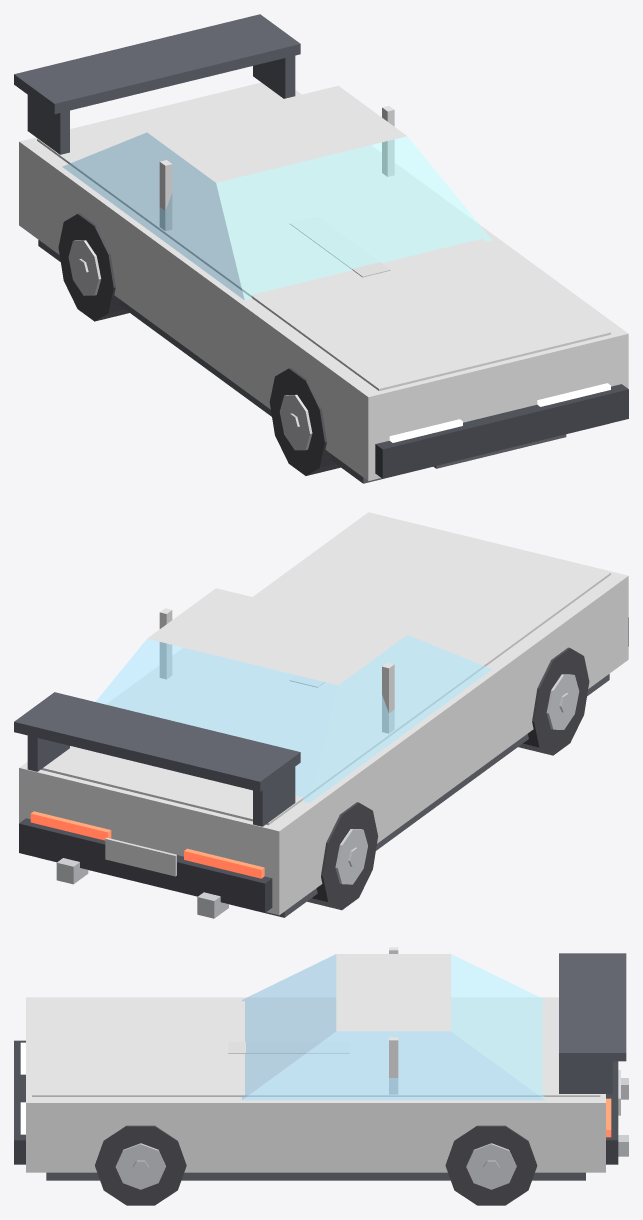
Rendered from coupe.glb.
3 renders of one model, top to bottom at view 1: azimuth 30°, elevation 25°; view 2: azimuth 150°, elevation 25°; view 3: azimuth 270°, elevation 25°, orthographic. The views are drawn at different scales.
Visible parts, largest first — view 1: coupe, wheel-bl, wheel-fl; view 2: coupe, wheel-bl, wheel-fl; view 3: coupe, wheel-br, wheel-fr.
Boxes of the visible parts, x1,y1,x2,y2 form: coupe: [14, 14, 628, 483]; wheel-bl: [58, 213, 129, 321]; wheel-fl: [269, 368, 340, 475]; coupe: [14, 512, 628, 918]; wheel-bl: [307, 802, 378, 910]; wheel-fl: [518, 647, 589, 755]; coupe: [14, 947, 628, 1180]; wheel-br: [445, 1125, 537, 1205]; wheel-fr: [95, 1125, 186, 1205].
Size of the model in its own units: 1.94 by 1.3 by 4.56.
